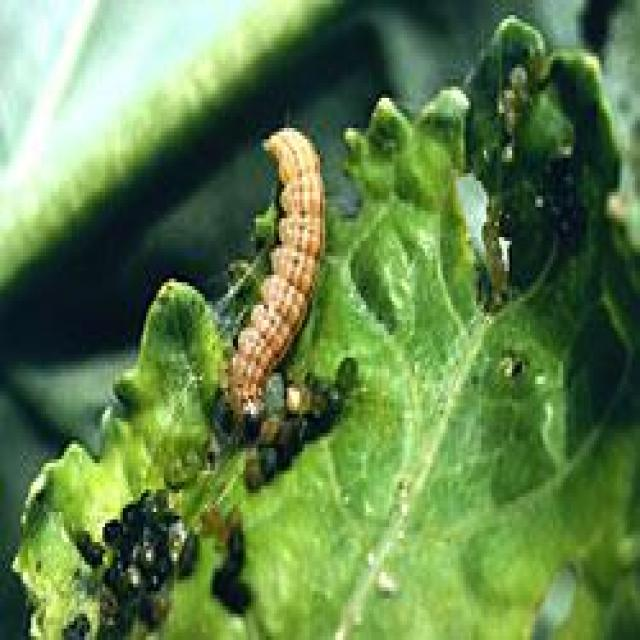armyworm: (229, 122, 323, 441)
